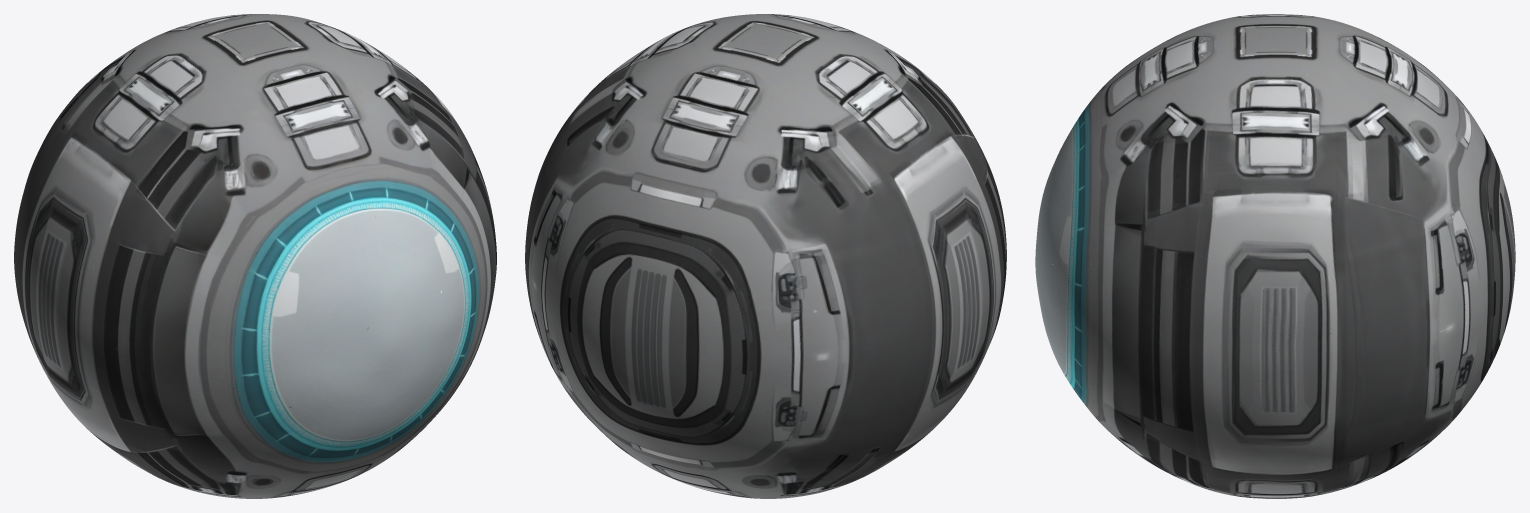
File: Boss_Orb_8_Mecha_Orb_Texture_1784483455359.glb
3 renders of one model, left to right at view 1: azimuth 30°, elevation 25°; view 2: azimuth 150°, elevation 25°; view 3: azimuth 270°, elevation 25°, orthographic.
Bounding box in the file's own units: 2 × 2 × 2.
1 material, 1 textured.
